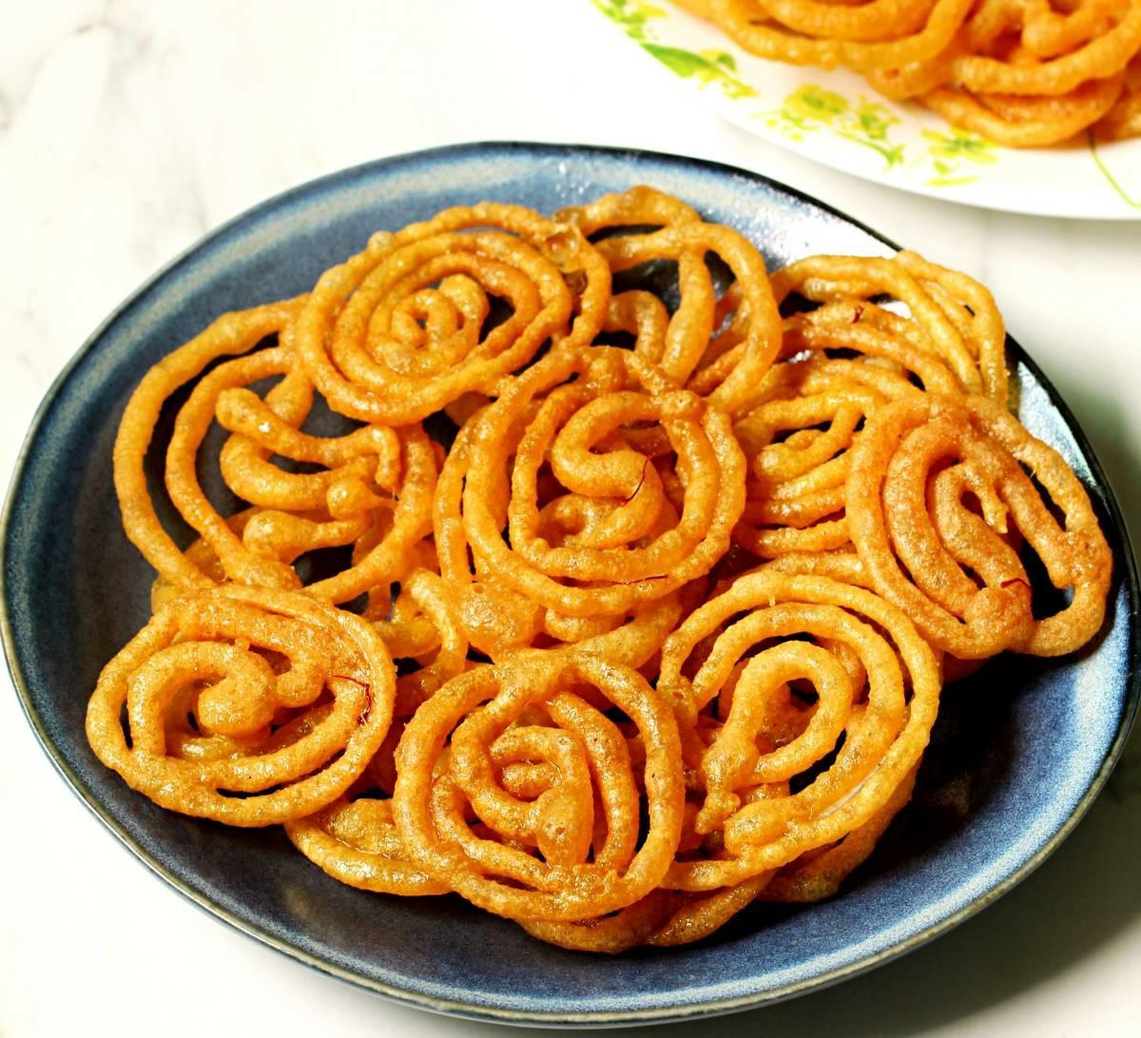Jalebi: (89, 183, 1116, 956)
